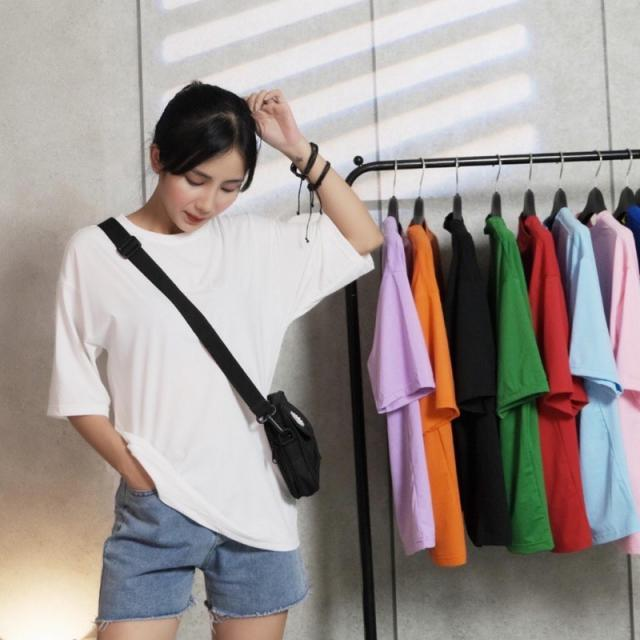Shirt: (42, 207, 369, 544)
